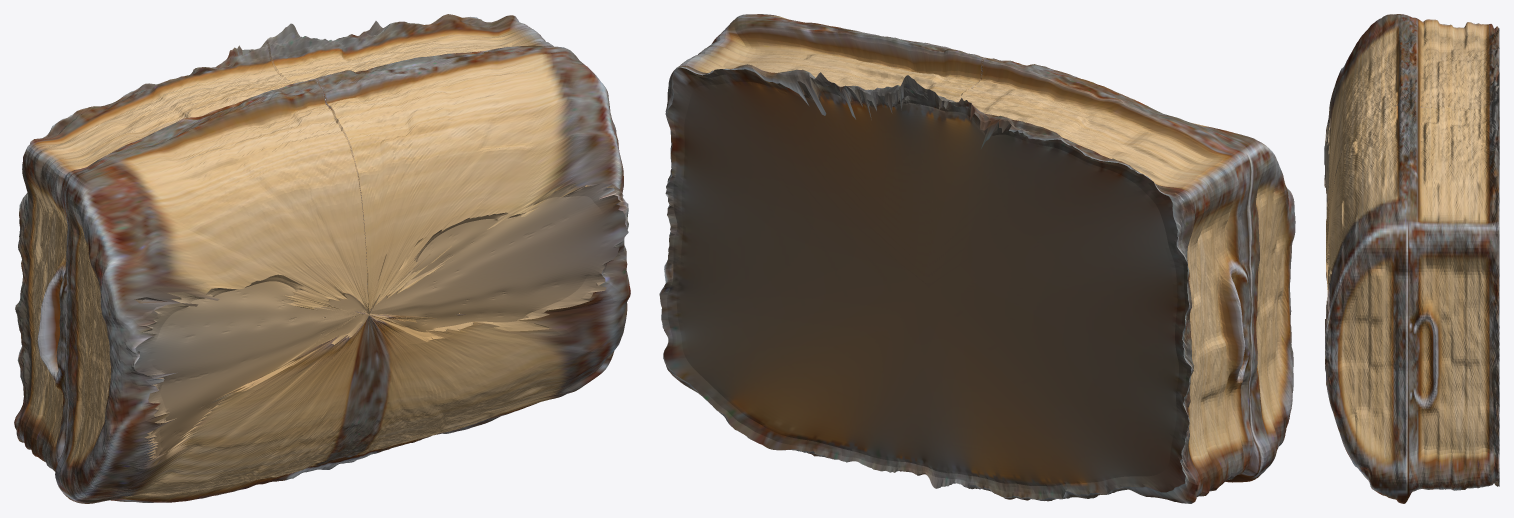
The model's file is membrane3_mesh.glb.
The picture shows the model from 3 angles, left to right: view 1: azimuth 30°, elevation 25°; view 2: azimuth 150°, elevation 25°; view 3: azimuth 270°, elevation 25°; orthographic projection. The views are drawn at different scales.
Visible parts, largest first — view 1: ipn, fill; view 2: fill, ipn; view 3: ipn, fill.
Boxes of the visible parts, x1=… form: ipn: x1=14, y1=14, x2=630, y2=503; fill: x1=134, y1=27, x2=628, y2=468; fill: x1=659, y1=67, x2=1191, y2=499; ipn: x1=659, y1=14, x2=1295, y2=503; ipn: x1=1325, y1=14, x2=1499, y2=503; fill: x1=1324, y1=70, x2=1499, y2=406.
Size of the model in its own units: 1.83 by 1.29 by 0.6018.
Materials: 2 (1 with a texture image).
